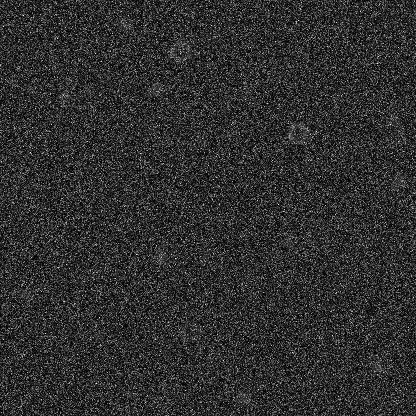Ring: (168, 38, 192, 62), (285, 121, 309, 145), (305, 227, 329, 251), (178, 319, 202, 343)
Spot: (368, 358, 384, 374), (148, 80, 164, 96), (245, 376, 261, 392), (385, 131, 401, 147), (55, 88, 71, 104), (280, 232, 296, 248), (390, 172, 406, 188), (152, 249, 168, 265), (47, 58, 63, 74), (17, 285, 33, 301), (236, 390, 252, 406), (386, 111, 402, 127), (117, 17, 133, 33), (83, 265, 99, 281), (332, 17, 348, 33), (92, 326, 108, 342)
